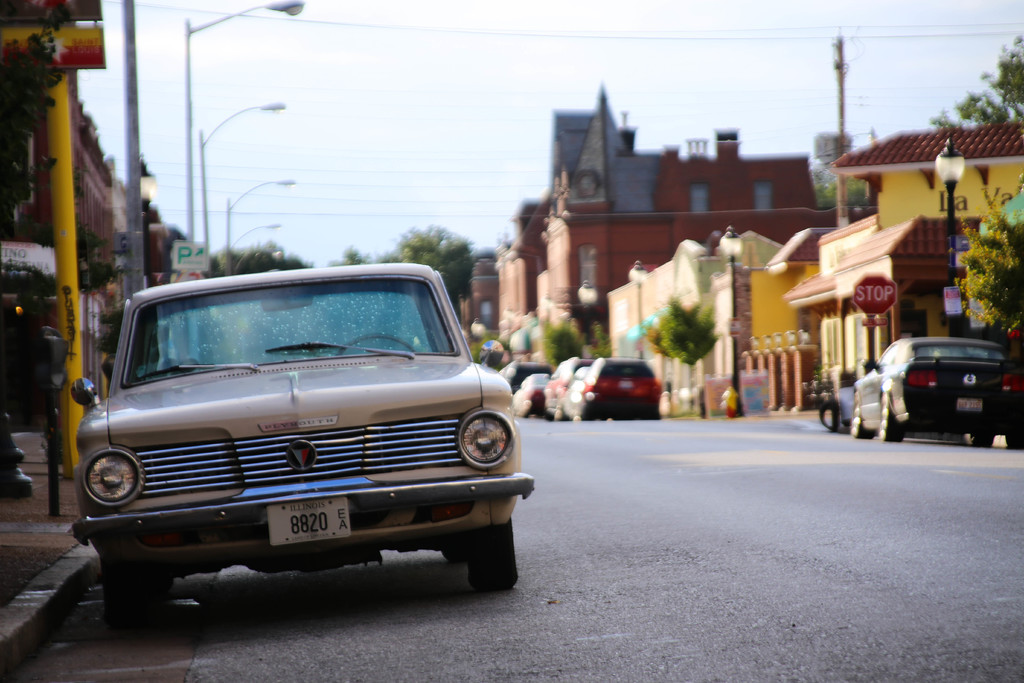Car: (58, 267, 530, 613), (848, 334, 1023, 448), (560, 356, 661, 417), (545, 356, 593, 418), (498, 356, 551, 390), (510, 372, 549, 414)
